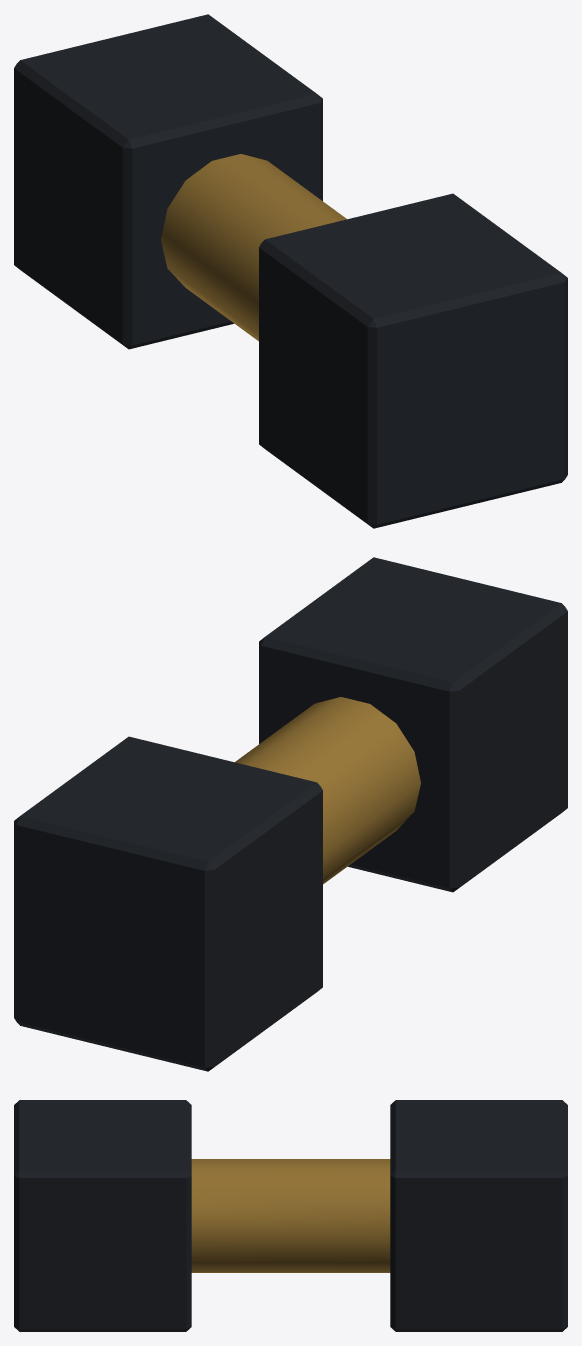
File: R4C_STRUT_STANDARD.glb
3 renders of one model, top to bottom at view 1: azimuth 30°, elevation 25°; view 2: azimuth 150°, elevation 25°; view 3: azimuth 270°, elevation 25°, orthographic. The views are drawn at different scales.
Parts seen in each view (by area): view 1: R4C_STRUT_STANDARD; view 2: R4C_STRUT_STANDARD; view 3: R4C_STRUT_STANDARD.
Boxes of the visible parts, x1,y1,x2,y2 form: R4C_STRUT_STANDARD: [14, 14, 567, 528]; R4C_STRUT_STANDARD: [14, 557, 567, 1071]; R4C_STRUT_STANDARD: [14, 1100, 567, 1331].
Bounding box in the file's own units: 0.52 × 0.52 × 1.62.
